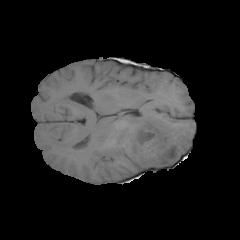glioma: (115, 112, 193, 169)
